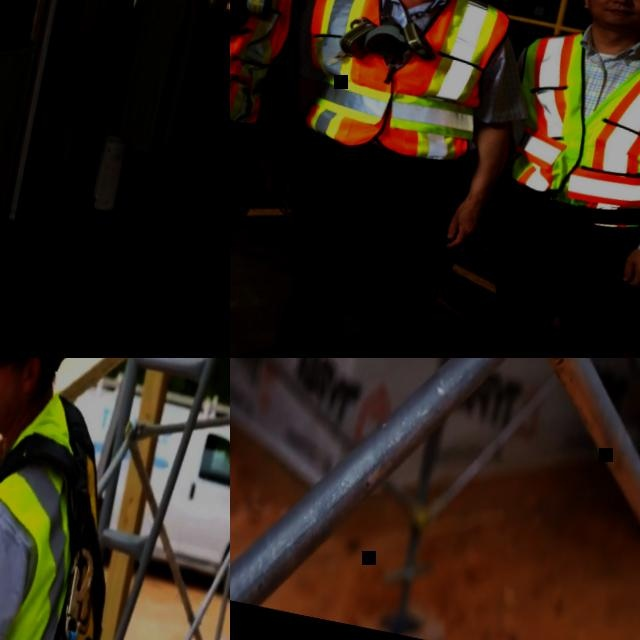NO-Mask: (0, 375, 29, 437), (585, 0, 640, 31)
Person: (230, 0, 569, 358), (439, 0, 640, 358), (0, 358, 195, 640), (230, 0, 357, 358), (148, 358, 230, 640)
Safety Vest: (0, 379, 170, 640), (288, 0, 517, 171), (496, 21, 640, 238)
vehicle: (45, 374, 230, 606)
